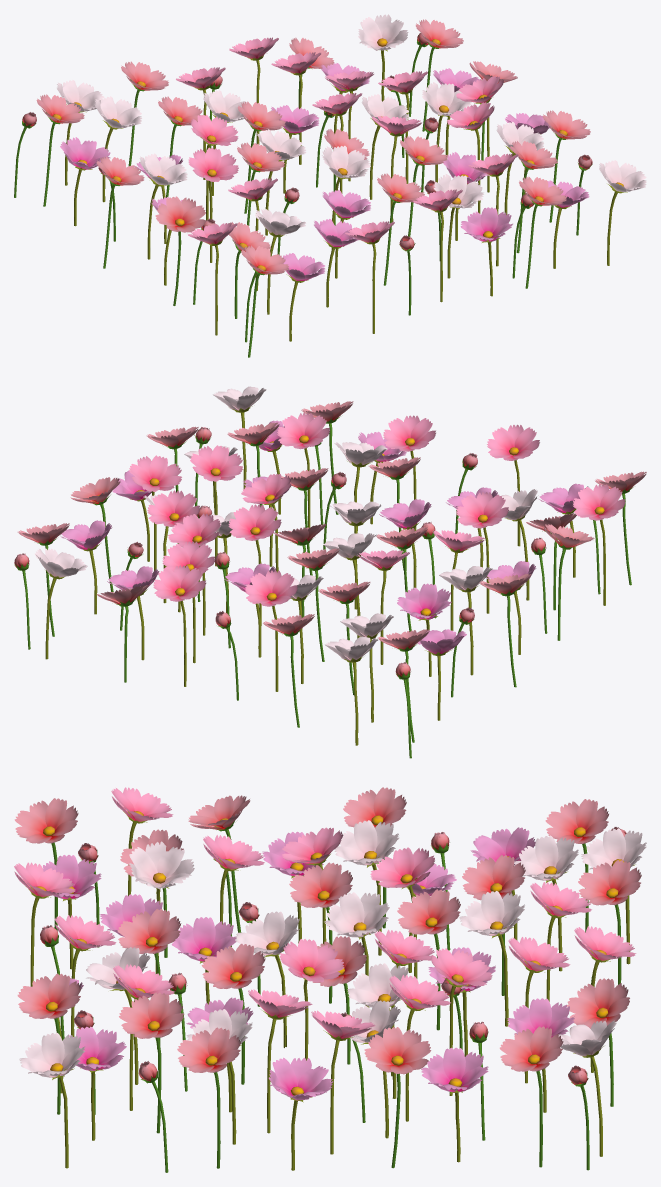
Rendered from flower.fbx.
The picture shows the model from 3 angles, top to bottom: view 1: azimuth 30°, elevation 25°; view 2: azimuth 150°, elevation 25°; view 3: azimuth 270°, elevation 25°; orthographic projection. The views are drawn at different scales.
Parts seen in each view (by area): view 1: flower_red1, flower_white1, flower_pink1, flower_base; view 2: flower_pink1, flower_red1, flower_base, flower_white1; view 3: flower_red1, flower_pink1, flower_white1, flower_base.
Part boxes in pixels (x1,y1,x2,y2): flower_red1: (14, 19, 592, 357); flower_white1: (57, 14, 646, 314); flower_pink1: (176, 37, 518, 335); flower_base: (60, 63, 589, 341); flower_pink1: (129, 413, 625, 691); flower_red1: (14, 401, 646, 758); flower_base: (60, 420, 588, 720); flower_white1: (34, 386, 537, 745); flower_red1: (14, 787, 641, 1172); flower_pink1: (14, 787, 636, 1154); flower_white1: (19, 820, 646, 1168); flower_base: (31, 827, 574, 1170).
Bounding box in the file's own units: 4.99 × 1.25 × 4.97.
